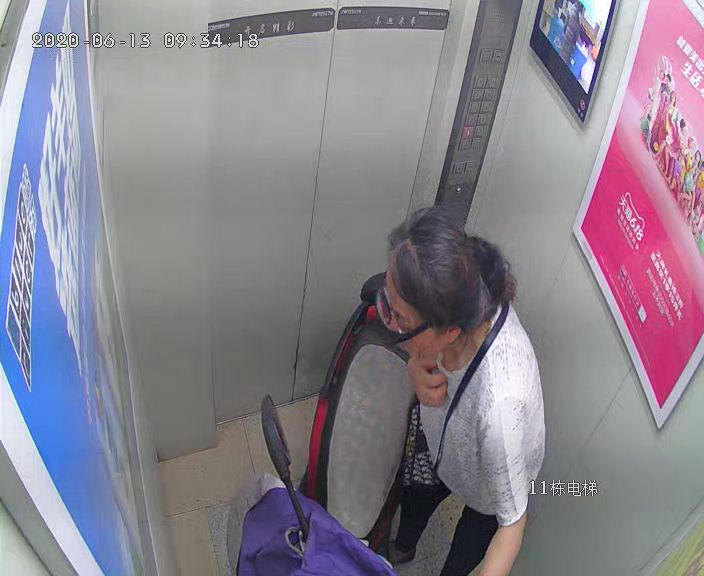Electric-bicycle: (258, 271, 420, 576)
